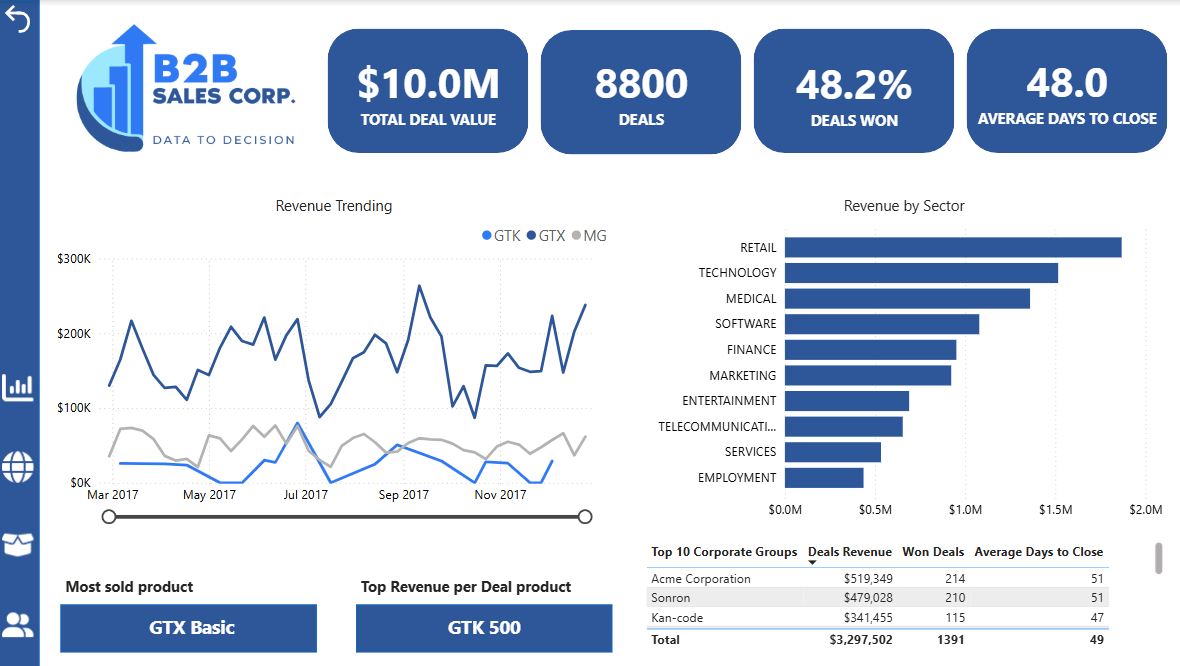

What the dashboard file says about the page in this screenshot:
{"tool":"powerbi","page":{"name":"Executive Overview","canvas":[1280,720],"ordinal":0},"visuals":[{"type":"shape","box":[1.6,0,45.3,720.6],"z":0},{"type":"image","box":[60,0,298.3,196.7],"z":1000},{"type":"shape","box":[357.8,30.8,217,134.4],"z":2000},{"type":"card","fields":{"Values":["Measure Table.Total Deal Value"]},"box":[357.8,30.8,217,134.4],"z":3000},{"type":"shape","box":[587.8,32.4,217,134.4],"z":4000},{"type":"card","fields":{"Values":["Measure Table.Total Deals"]},"box":[587.8,30.8,217,134.4],"z":5000},{"type":"shape","box":[817.7,30.8,217,134.4],"z":6000},{"type":"card","fields":{"Values":["Measure Table.% of Won Deals"]},"box":[817.7,32.4,217,132.8],"z":7000},{"type":"shape","box":[1047.6,30.8,217,134.4],"z":8000},{"type":"card","fields":{"Values":["Measure Table.Average Sales Velocity"]},"box":[1047.6,30.8,217,132.8],"z":9000},{"type":"lineChart","title":"Revenue Trending","fields":{"Category":["Calendar_Lookup.Year","Calendar_Lookup.Start of Month","Calendar_Lookup.Start of Week"],"Y":["Measure Table.GTK Value","Measure Table.GTX Value","Measure Table.MG Value"]},"box":[60,210,610,358.3],"z":10000},{"type":"shape","box":[69.7,652.4,276.7,51.7],"z":11000},{"type":"barChart","title":"Revenue by Sector","fields":{"Category":["Company_Lookup.Sector"],"Y":["Measure Table.Total Value"]},"box":[696.7,210,568.3,358.3],"z":12000},{"type":"card","fields":{"Values":["Min(Product_Lookup.ProductName)"]},"box":[76.4,652.4,270,51.7],"z":13000},{"type":"shape","box":[389,652.4,276.7,51.7],"z":14000},{"type":"card","fields":{"Values":["Min(Product_Lookup.ProductName)"]},"box":[392.3,652.4,270,51.7],"z":15000},{"type":"textbox","box":[69.1,616.9,276.9,61.5],"z":16000},{"type":"tableEx","title":"Top 10 Corporate Groups","fields":{"Values":["Company_Lookup.ParentCompany","Measure Table.Total Value","Measure Table.Won Deals","Measure Table.Average Sales Velocity"]},"box":[696.3,579.7,568.3,124.7],"z":17000},{"type":"textbox","box":[388.6,616.9,276.9,61.5],"z":18000},{"type":"image","box":[6.5,388.6,34,59.9],"z":19000},{"type":"image","box":[6.5,473.9,34,59.9],"z":20000},{"type":"image","box":[6.5,559.2,34,59.9],"z":21000},{"type":"image","box":[6.5,644.5,34,59.9],"z":22000},{"type":"actionButton","box":[3.2,0,40.5,40.5],"z":23000}]}

Visuals, with their boxes on the page's 1280x720 design canvas (x1, y1, x2, y2). These are canvas units, not pixel positions in the 1180x666 screenshot, which may show the page scaled, cropped or inside an application window:
shape: (left=2, top=0, right=47, bottom=721)
image: (left=60, top=0, right=358, bottom=197)
shape: (left=358, top=31, right=575, bottom=165)
card - Measure Table.Total Deal Value: (left=358, top=31, right=575, bottom=165)
shape: (left=588, top=32, right=805, bottom=167)
card - Measure Table.Total Deals: (left=588, top=31, right=805, bottom=165)
shape: (left=818, top=31, right=1035, bottom=165)
card - Measure Table.% of Won Deals: (left=818, top=32, right=1035, bottom=165)
shape: (left=1048, top=31, right=1265, bottom=165)
card - Measure Table.Average Sales Velocity: (left=1048, top=31, right=1265, bottom=164)
"Revenue Trending" lineChart: (left=60, top=210, right=670, bottom=568)
shape: (left=70, top=652, right=346, bottom=704)
"Revenue by Sector" barChart: (left=697, top=210, right=1265, bottom=568)
card - Min(Product_Lookup.ProductName): (left=76, top=652, right=346, bottom=704)
shape: (left=389, top=652, right=666, bottom=704)
card - Min(Product_Lookup.ProductName): (left=392, top=652, right=662, bottom=704)
textbox: (left=69, top=617, right=346, bottom=678)
"Top 10 Corporate Groups" tableEx: (left=696, top=580, right=1265, bottom=704)
textbox: (left=389, top=617, right=666, bottom=678)
image: (left=6, top=389, right=40, bottom=448)
image: (left=6, top=474, right=40, bottom=534)
image: (left=6, top=559, right=40, bottom=619)
image: (left=6, top=644, right=40, bottom=704)
actionButton: (left=3, top=0, right=44, bottom=40)
